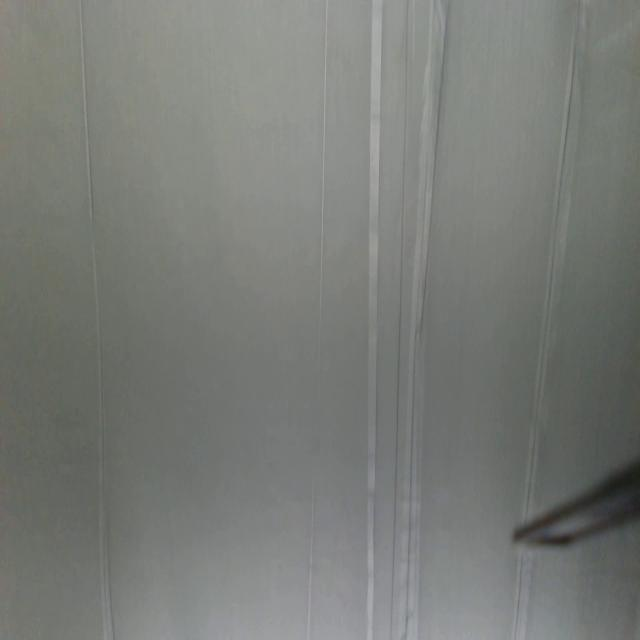crease: (403, 1, 456, 637), (525, 0, 586, 494), (78, 1, 115, 640), (389, 0, 416, 638), (305, 0, 330, 634), (367, 0, 381, 640), (511, 553, 529, 635)
